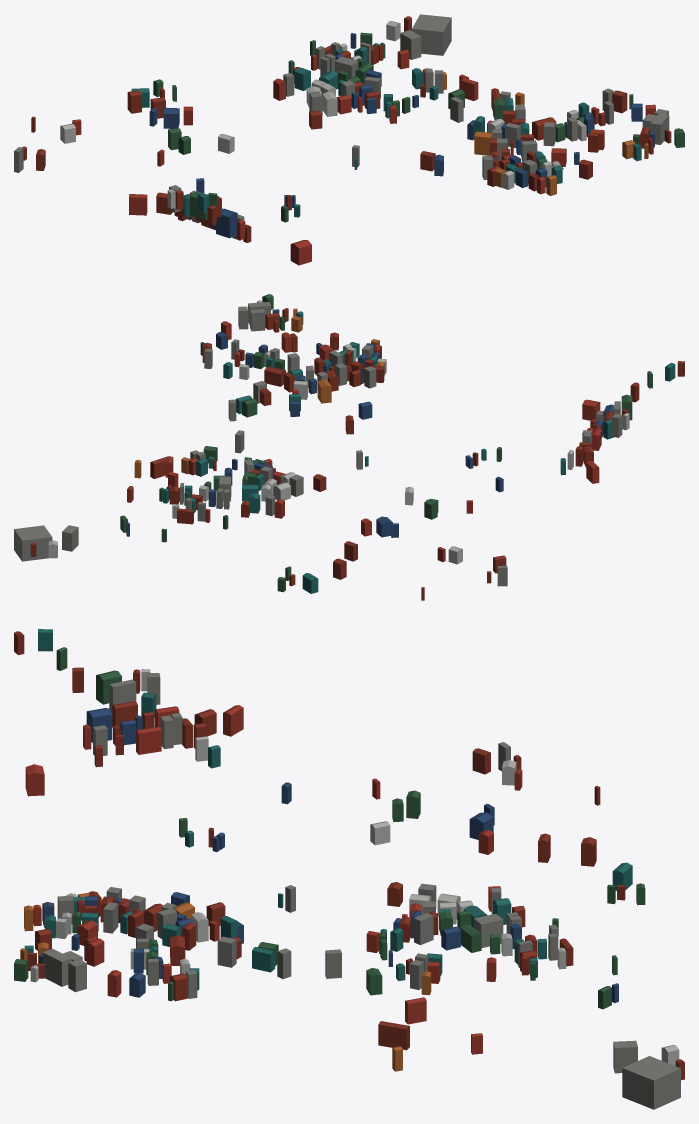
Rendered from near-16-54723-29727.1b6ea4dd.glb.
The picture shows the model from 3 angles, top to bottom: view 1: azimuth 30°, elevation 25°; view 2: azimuth 150°, elevation 25°; view 3: azimuth 270°, elevation 25°; orthographic projection. The views are drawn at different scales.
Size of the model in its own units: 609 by 173 by 575.
